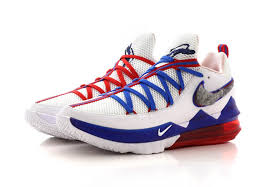nike: (190, 79, 240, 111), (157, 124, 176, 136)
